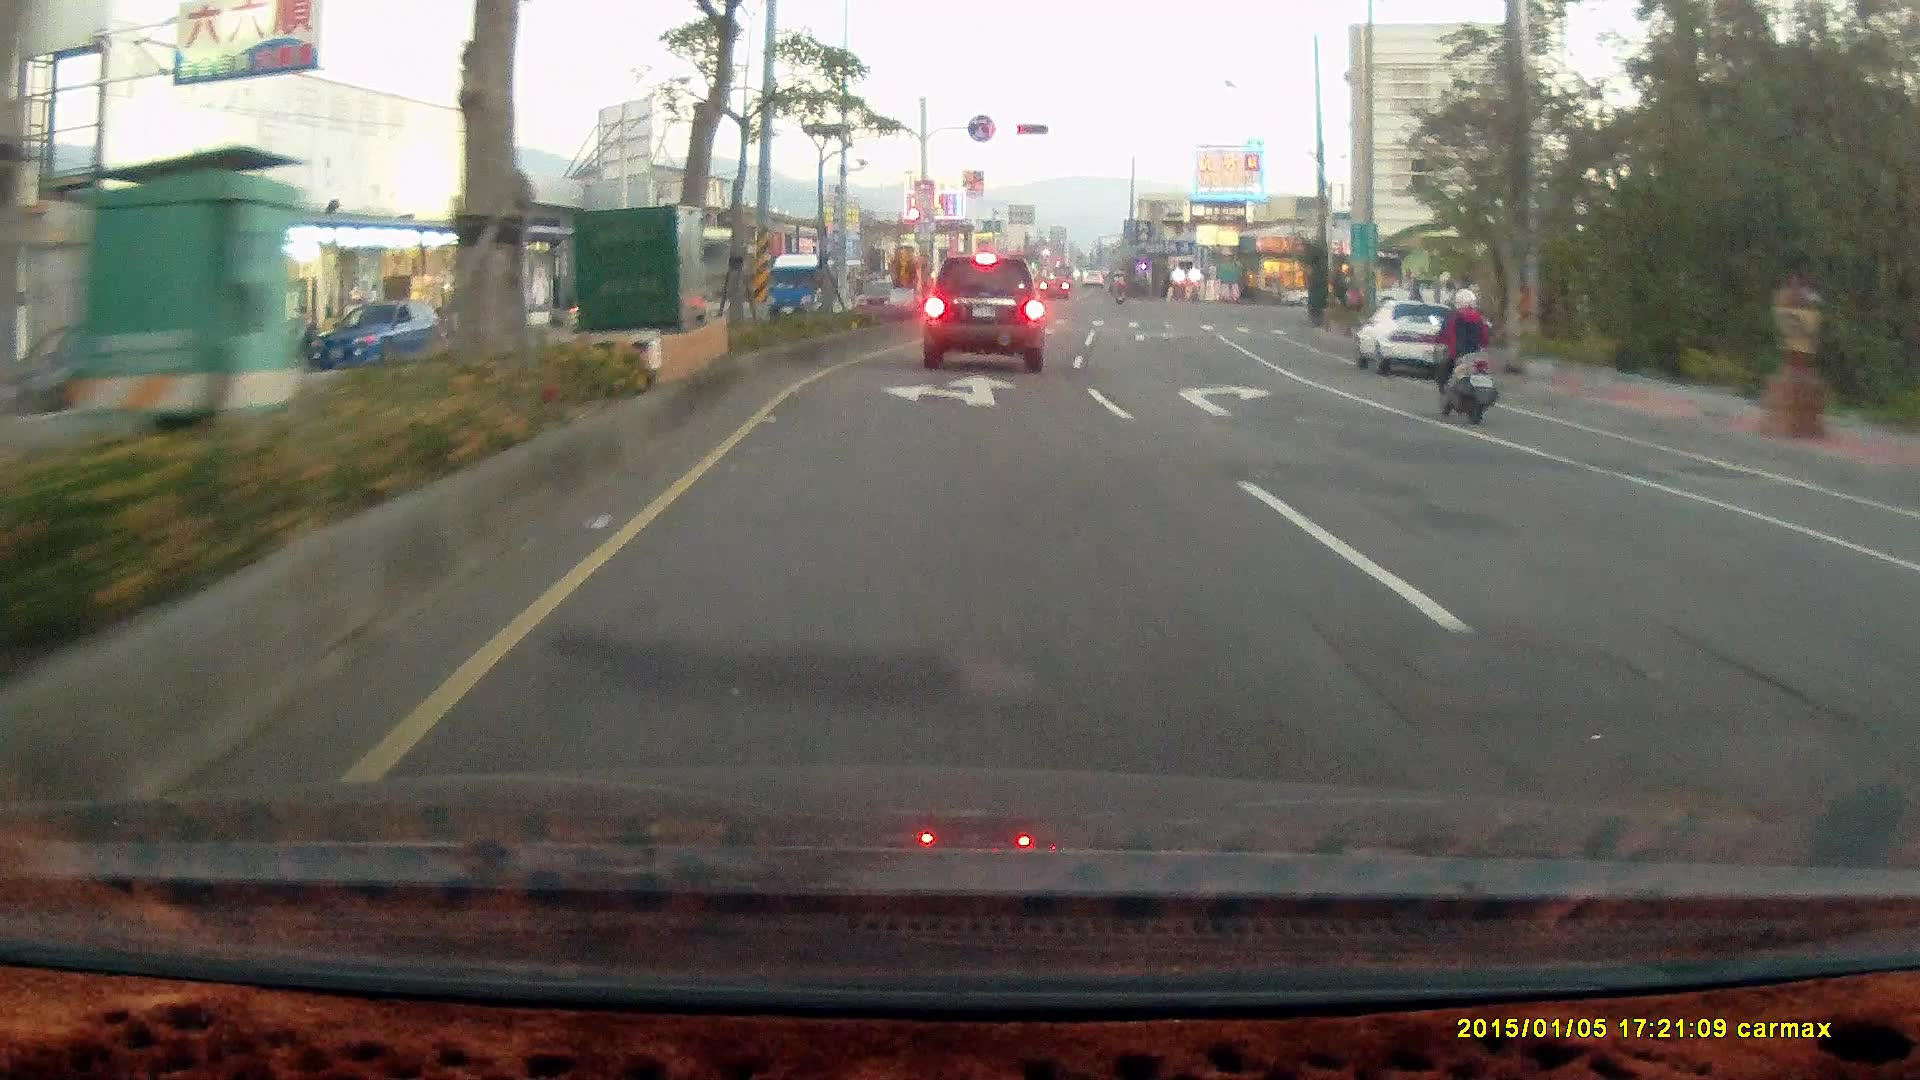rider: (1422, 282, 1500, 422)
vehicle: (920, 254, 1043, 372), (1356, 303, 1491, 379), (1351, 299, 1476, 380), (314, 299, 449, 370), (1896, 493, 1920, 836), (1883, 528, 1920, 690), (1370, 275, 1459, 313)
